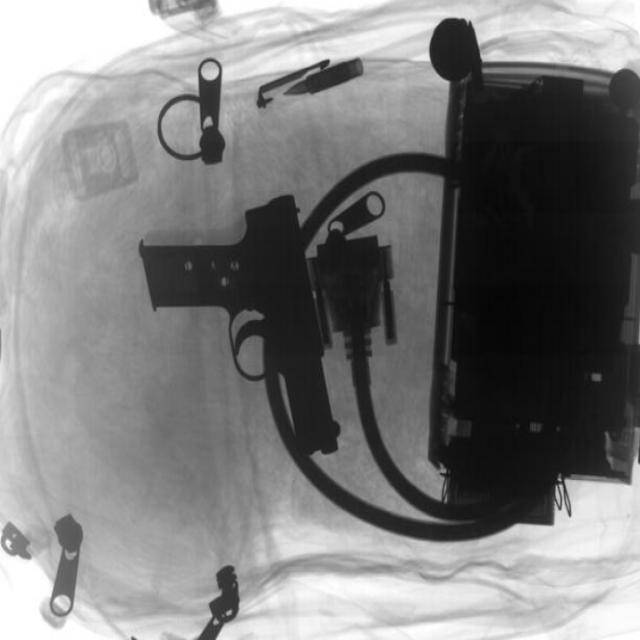GUN: (149, 192, 334, 466)
